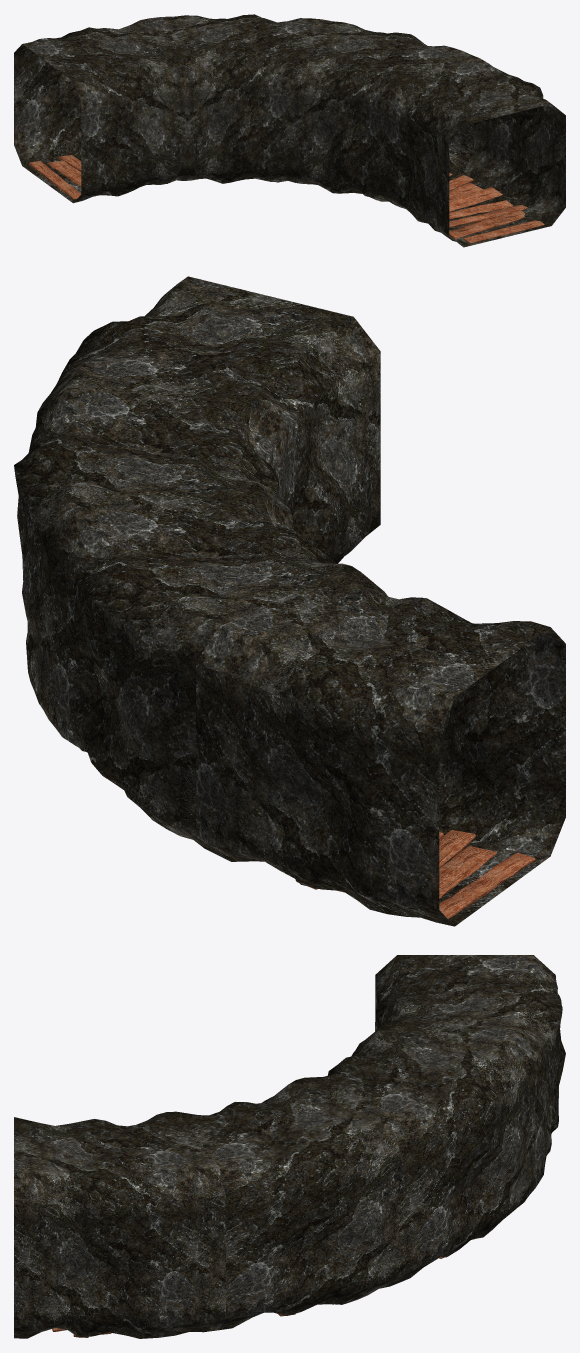
Rendered from Cave_052.fbx.
3 views of the same model, one above another, from view 1: azimuth 30°, elevation 25°; view 2: azimuth 150°, elevation 25°; view 3: azimuth 270°, elevation 25° (orthographic). The views are drawn at different scales.
Parts seen in each view (by area): view 1: Cave.052; view 2: Cave.052; view 3: Cave.052.
Boxes of the visible parts, left/top/right/bottom form: Cave.052: left=14, top=14, right=565, bottom=247; Cave.052: left=14, top=276, right=565, bottom=926; Cave.052: left=14, top=955, right=565, bottom=1338.
Size of the model in its own units: 913 by 313 by 917.
